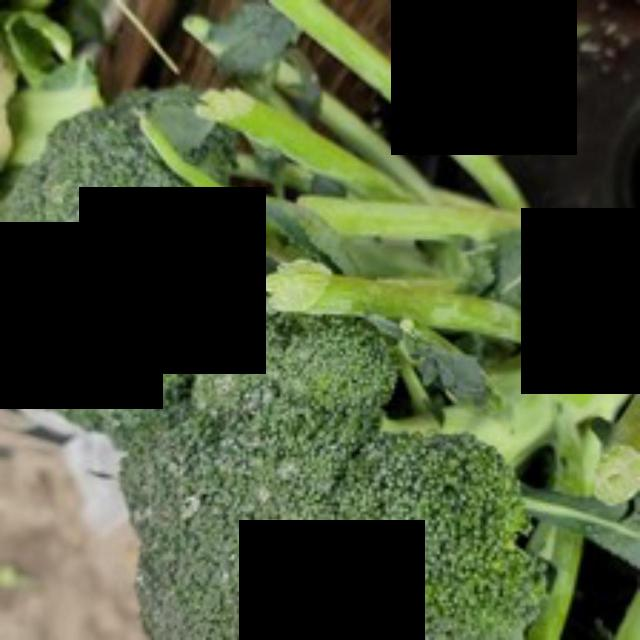broccoli: (112, 300, 542, 637)
